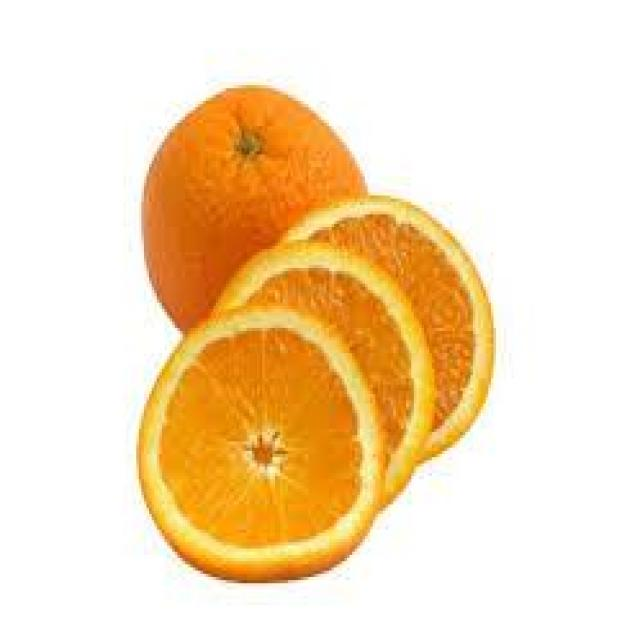organic: (136, 88, 496, 583)
